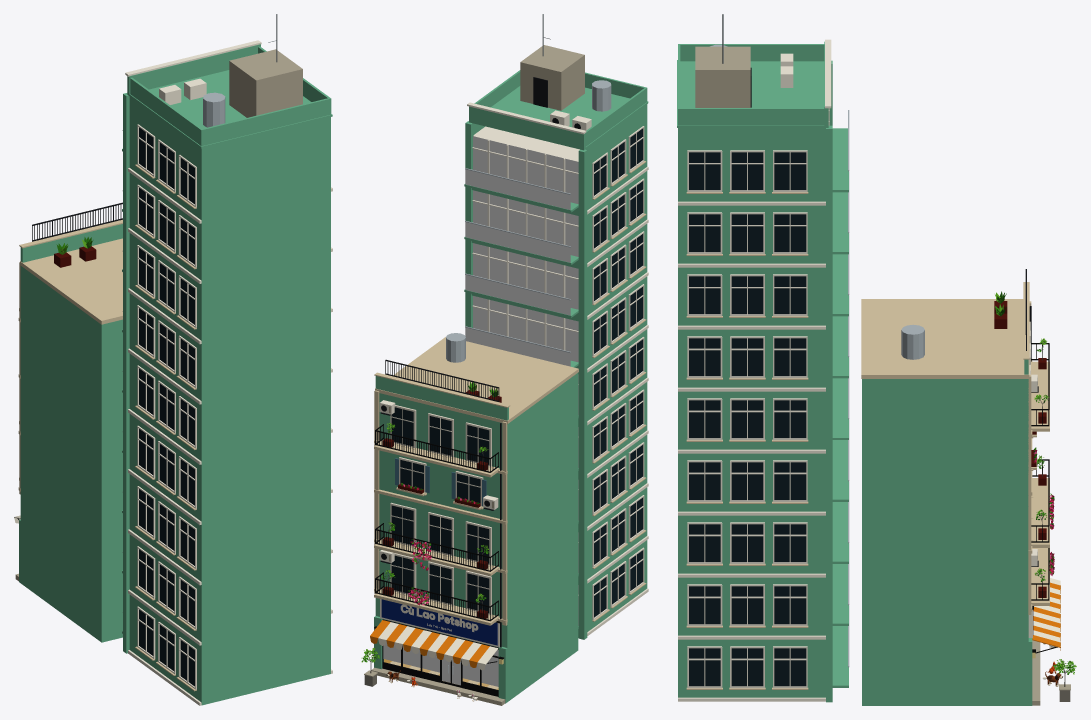
The model's file is PV_StreetShop07_Petshop.fbx.
The picture shows the model from 3 angles, left to right: view 1: azimuth 30°, elevation 25°; view 2: azimuth 150°, elevation 25°; view 3: azimuth 270°, elevation 25°; orthographic projection. The views are drawn at different scales.
Parts seen in each view (by area): view 1: PV_StreetShop07_Petshop_LOD0; view 2: PV_StreetShop07_Petshop_LOD0; view 3: PV_StreetShop07_Petshop_LOD0.
Boxes of the visible parts, x1,y1,x2,y2 form: PV_StreetShop07_Petshop_LOD0: (14, 14, 332, 705); PV_StreetShop07_Petshop_LOD0: (361, 14, 648, 705); PV_StreetShop07_Petshop_LOD0: (677, 14, 1076, 705).
Size of what is drawn, in the model's own units: 8.46 by 34.6 by 18.71.
2 materials, 1 textured.
